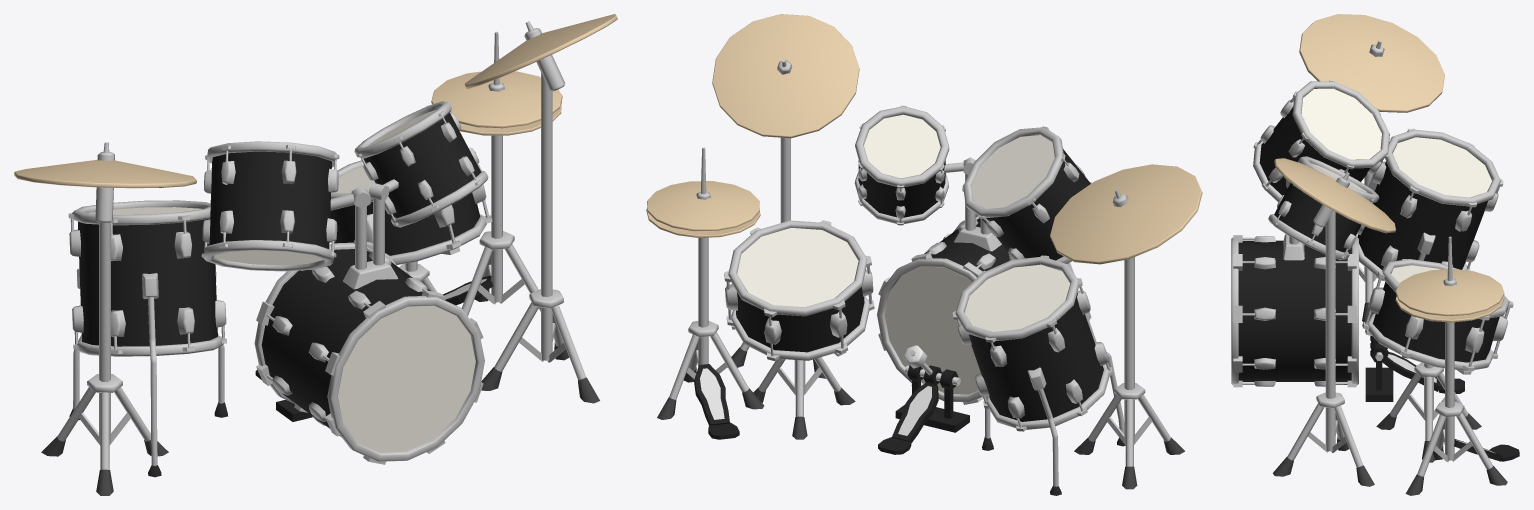
File: entertainment_009.fbx
3 views of the same model, side by side, from view 1: azimuth 30°, elevation 25°; view 2: azimuth 150°, elevation 25°; view 3: azimuth 270°, elevation 25° (orthographic). The views are drawn at different scales.
Visible parts, largest first — view 1: entertainment_009; view 2: entertainment_009; view 3: entertainment_009.
Part boxes in pixels (x1,y1,x2,y2): entertainment_009: (14, 14, 617, 495); entertainment_009: (646, 14, 1202, 495); entertainment_009: (1231, 14, 1519, 495).
Size of the model in its own units: 224 by 118 by 138.
